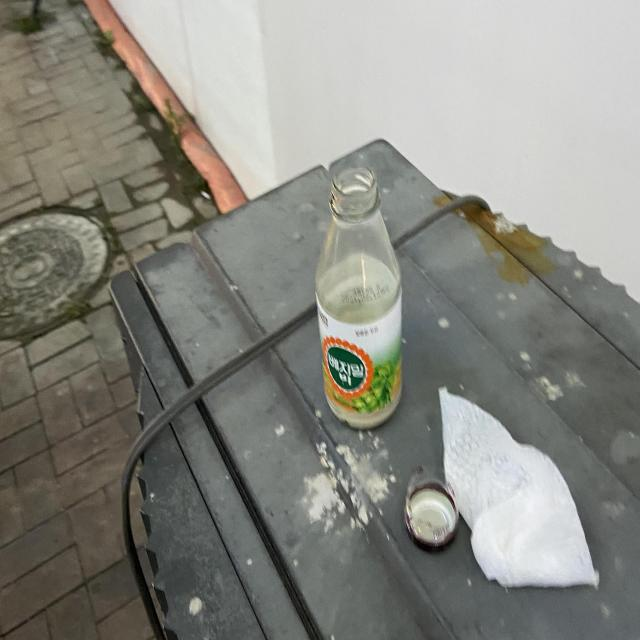glass: (316, 168, 402, 429)
